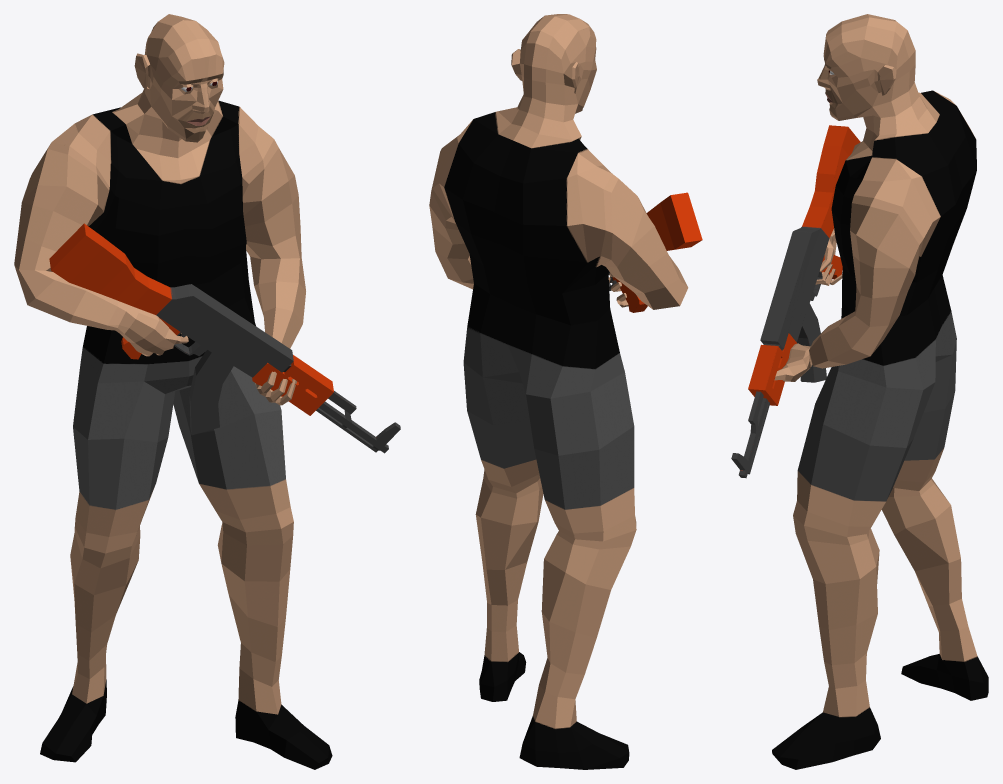
File: PlayerIdle(203).obj
The picture shows the model from 3 angles, left to right: view 1: azimuth 30°, elevation 25°; view 2: azimuth 150°, elevation 25°; view 3: azimuth 270°, elevation 25°; orthographic projection. The views are drawn at different scales.
Visible parts, largest first — view 1: Plane002, Object001; view 2: Plane002, Object001; view 3: Plane002, Object001.
Boxes of the visible parts, bbox=[...] form: Plane002: bbox=[14, 14, 332, 769]; Object001: bbox=[49, 223, 400, 453]; Plane002: bbox=[429, 14, 688, 769]; Object001: bbox=[608, 192, 702, 312]; Plane002: bbox=[772, 14, 988, 769]; Object001: bbox=[731, 125, 860, 478].
Bounding box in the file's own units: 755 × 1797 × 598.
